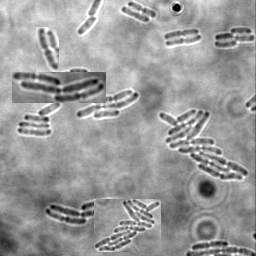Dividing: (36, 27, 59, 72), (128, 1, 157, 18), (166, 34, 202, 47), (164, 28, 200, 39), (192, 239, 229, 249)
Microcolony: (158, 109, 249, 180), (94, 199, 161, 252), (12, 72, 106, 103), (76, 88, 139, 119), (18, 103, 61, 136), (45, 199, 94, 224), (214, 27, 255, 48)
Rod: (121, 5, 150, 23), (78, 16, 99, 34)
